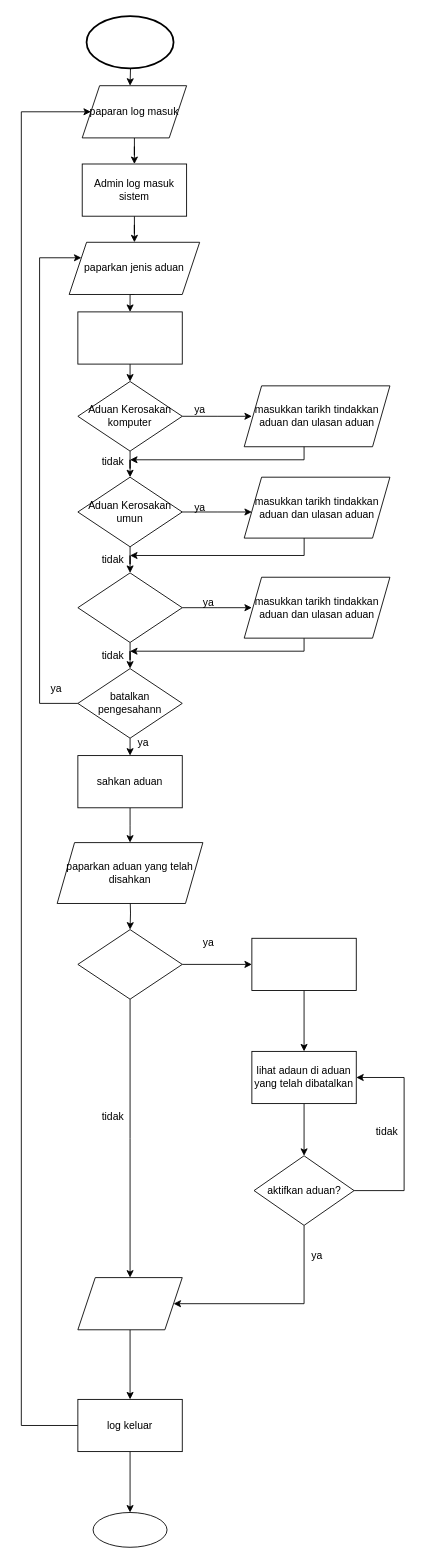
Image size: 426x1563. Some labels were removed from this diagram. Each missing label, with the box of its shape:
aduan dibatalkan: (251, 937, 356, 990)
aduan dipaparkan: (77, 1277, 182, 1330)
Aduan Kerosakan aset alih: (77, 572, 182, 642)
batalkan aduan?: (77, 929, 182, 999)
Mula: (85, 15, 174, 69)
pilih aduan yang ingin dilihat: (77, 311, 182, 364)
tamat: (92, 1512, 167, 1547)
